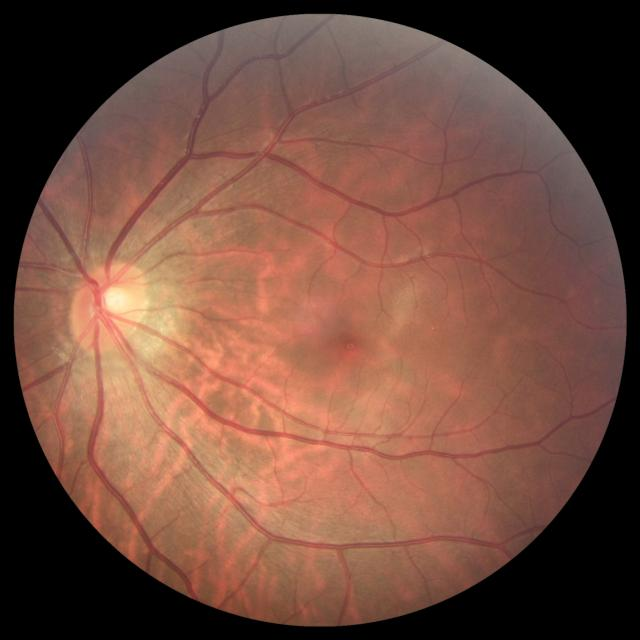OC: (95, 286, 129, 317)
OD: (70, 260, 148, 352)
